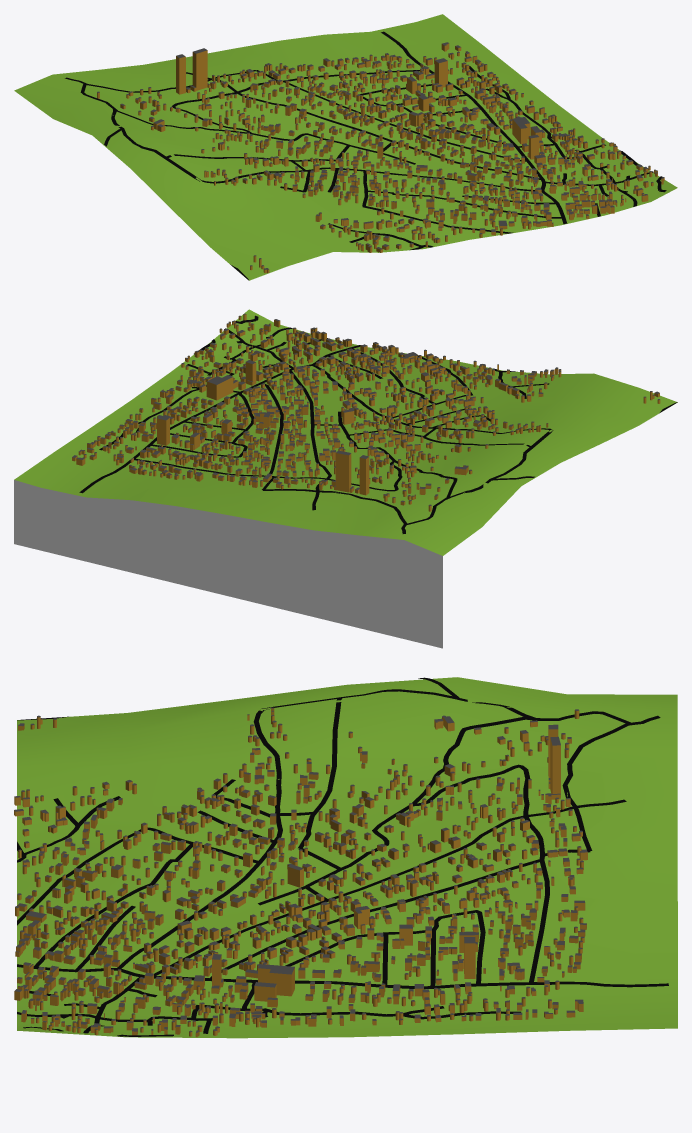
The model's file is tile_09_07.glb.
3 views of the same model, one above another, from view 1: azimuth 30°, elevation 25°; view 2: azimuth 150°, elevation 25°; view 3: azimuth 270°, elevation 25° (orthographic). The views are drawn at different scales.
Visible parts, largest first — view 1: Terrain_09_07, Ub_small.osm_buildings_09_07, Ub_small.osm_roads_residential_09_07, Ub_small.osm_roads_secondary_09_07; view 2: Terrain_09_07, Ub_small.osm_buildings_09_07, Ub_small.osm_roads_residential_09_07, Ub_small.osm_roads_secondary_09_07; view 3: Terrain_09_07, Ub_small.osm_buildings_09_07, Ub_small.osm_roads_residential_09_07, Ub_small.osm_roads_secondary_09_07.
Part boxes in pixels (x1,y1,x2,y2): Terrain_09_07: (14, 14, 677, 280); Ub_small.osm_buildings_09_07: (97, 42, 664, 273); Ub_small.osm_roads_residential_09_07: (65, 66, 666, 280); Ub_small.osm_roads_secondary_09_07: (381, 31, 567, 224); Terrain_09_07: (14, 309, 677, 648); Ub_small.osm_buildings_09_07: (72, 313, 660, 511); Ub_small.osm_roads_residential_09_07: (99, 315, 677, 533); Ub_small.osm_roads_secondary_09_07: (79, 345, 360, 493); Terrain_09_07: (17, 677, 677, 1038); Ub_small.osm_buildings_09_07: (14, 707, 587, 1037); Ub_small.osm_roads_residential_09_07: (17, 677, 660, 1036); Ub_small.osm_roads_secondary_09_07: (17, 964, 668, 989).
Size of the model in its own units: 980 by 282 by 933.
